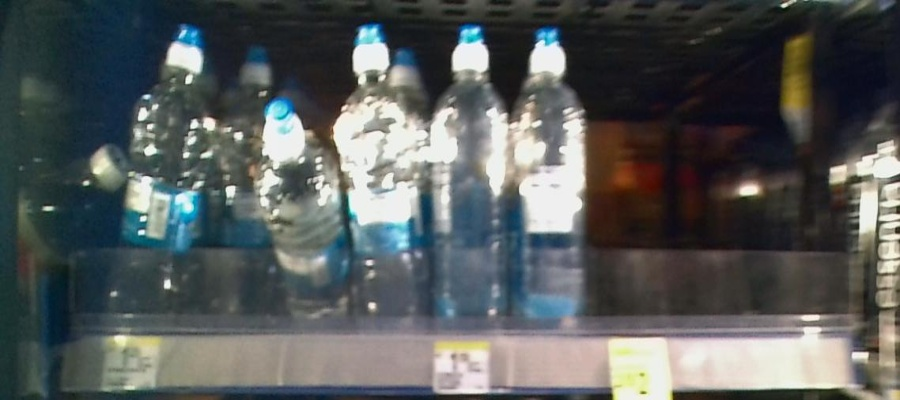bottle: (333, 19, 424, 332), (429, 19, 513, 325), (515, 23, 588, 326)
